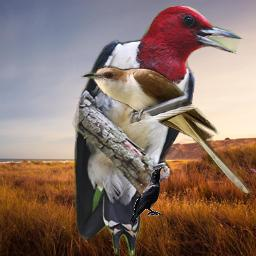Crow: (129, 166, 163, 228)
Cuckoo: (81, 65, 253, 197)
Woodpecker: (68, 6, 248, 256)
